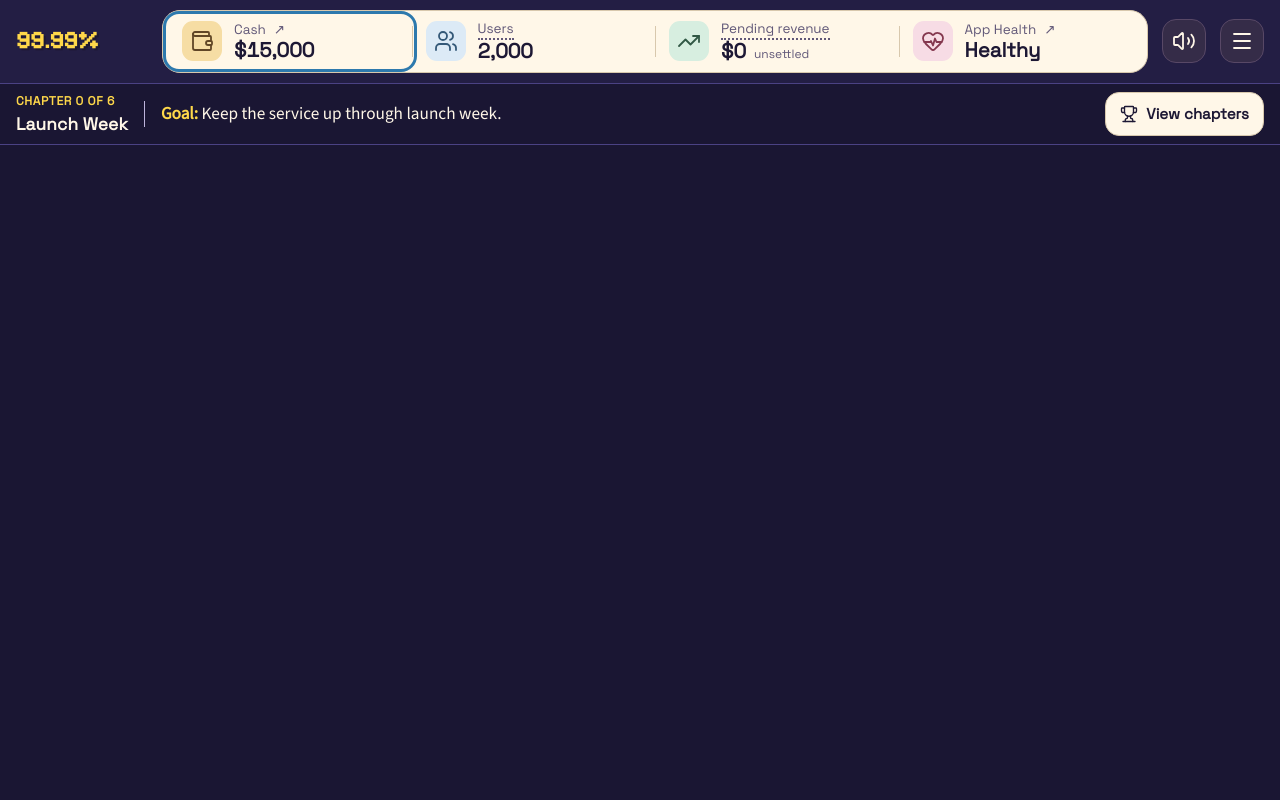
opens finance from Cash, pauses and restores focus without changing company state
Click the button with aria-label "View finances" at (290, 41), box top-left (168, 16), bottom-right (412, 67)
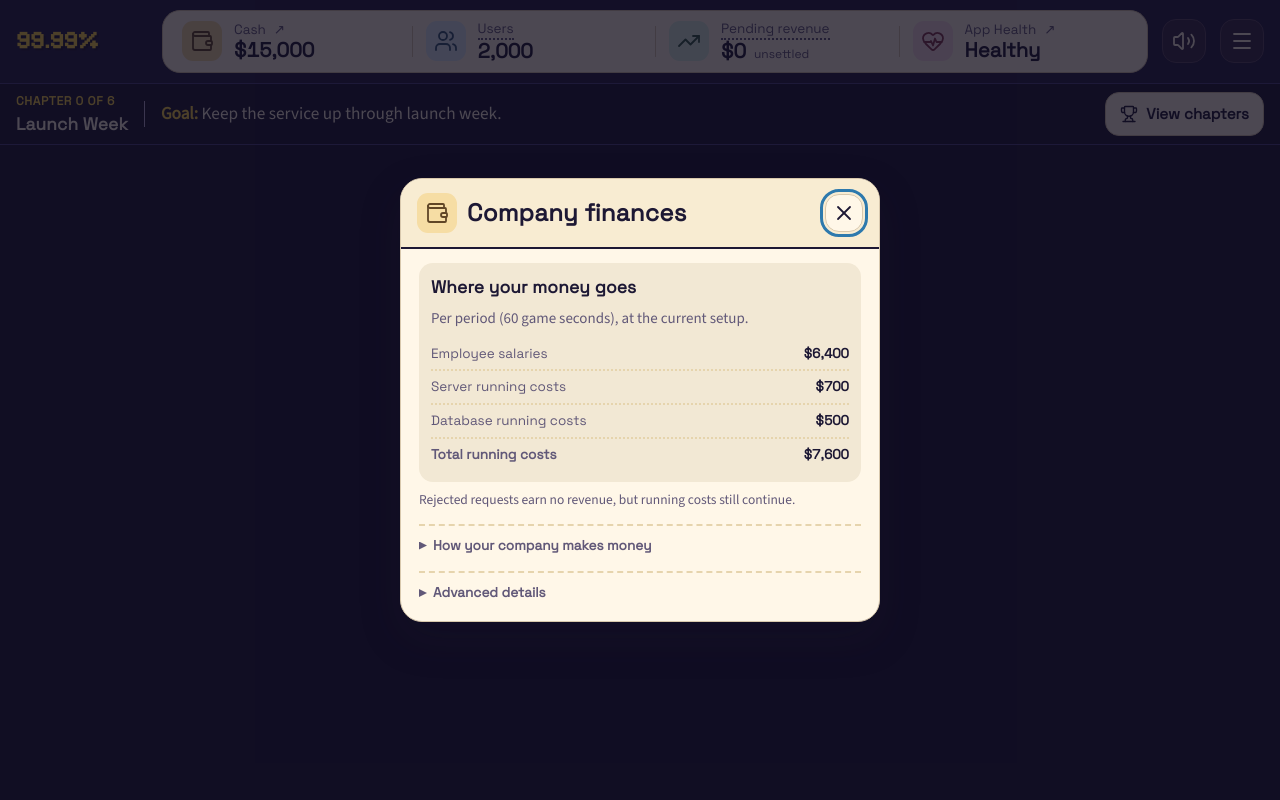
Now the heading "Where your money goes" is shown, box top-left (431, 276), bottom-right (636, 298)
Press Escape in the button named "Close", box top-left (825, 194), bottom-right (863, 232)
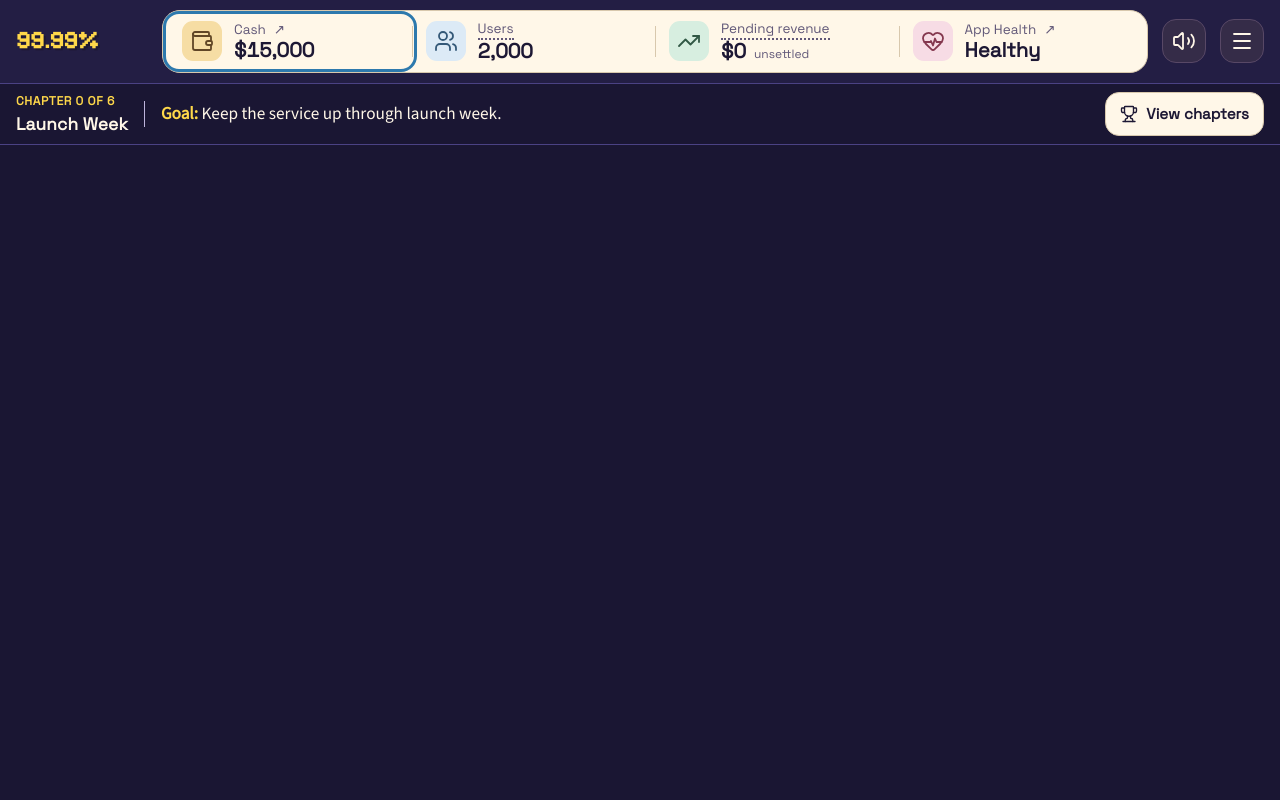
Now the dialog is gone
